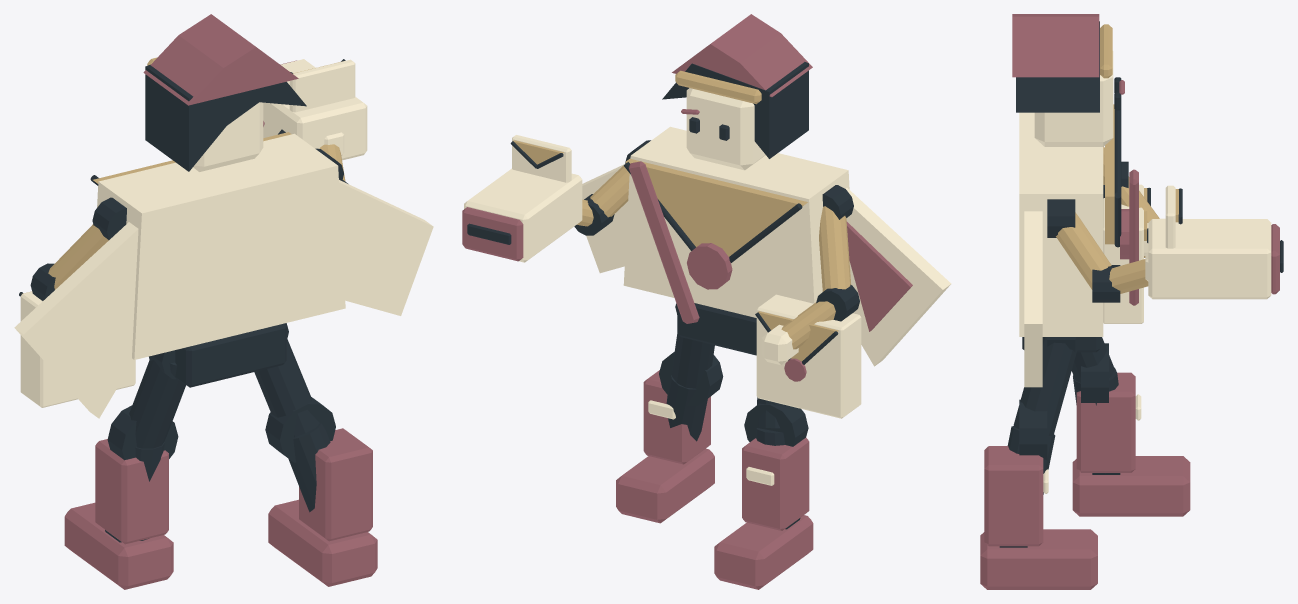
3 renders of one model, left to right at view 1: azimuth 30°, elevation 25°; view 2: azimuth 150°, elevation 25°; view 3: azimuth 270°, elevation 25°, orthographic. The views are drawn at different scales.
Visible parts, largest first — view 1: envelope_coat, left_folded_wing, right_folded_wing, postcap_peak, folded_hair, L_postal_boot, R_postal_boot, R_shoe, L_shoe, waist, dispatch_launcher, L_thigh (+11 smaller); view 2: envelope_coat, hip_dispatch_sheet, sealed_chest_flap, left_folded_wing, dispatch_launcher, L_postal_boot, postcap_peak, R_shoe, L_shoe, courier_face, folded_hair, left_wing_inner (+20 smaller); view 3: envelope_coat, dispatch_launcher, L_shoe, R_shoe, R_postal_boot, postcap_peak, L_postal_boot, right_folded_wing, courier_face, folded_hair, R_thigh, hip_dispatch_sheet (+17 smaller).
Boxes of the visible parts, x1,y1,x2,y2 form: envelope_coat: [97, 133, 345, 359]; left_folded_wing: [14, 222, 138, 418]; right_folded_wing: [339, 180, 433, 315]; postcap_peak: [143, 14, 298, 105]; folded_hair: [145, 64, 306, 171]; L_postal_boot: [95, 439, 168, 544]; R_postal_boot: [299, 428, 372, 541]; R_shoe: [268, 499, 377, 586]; L_shoe: [64, 502, 173, 589]; waist: [175, 323, 286, 387]; dispatch_launcher: [263, 59, 367, 160]; L_thigh: [129, 360, 185, 448]; envelope_coat: [623, 126, 849, 317]; hip_dispatch_sheet: [756, 294, 861, 418]; sealed_chest_flap: [625, 158, 807, 256]; left_folded_wing: [845, 188, 951, 366]; dispatch_launcher: [464, 168, 582, 262]; L_postal_boot: [742, 437, 809, 530]; postcap_peak: [672, 14, 812, 97]; R_shoe: [616, 448, 714, 523]; L_shoe: [714, 515, 813, 589]; courier_face: [686, 88, 765, 170]; folded_hair: [662, 62, 808, 158]; left_wing_inner: [846, 221, 912, 331]; envelope_coat: [1019, 112, 1103, 336]; dispatch_launcher: [1148, 219, 1271, 299]; L_shoe: [1072, 456, 1190, 516]; R_shoe: [980, 529, 1097, 589]; R_postal_boot: [984, 446, 1043, 546]; postcap_peak: [1012, 14, 1099, 77]; L_postal_boot: [1076, 372, 1135, 472]; right_folded_wing: [1024, 211, 1042, 387]; courier_face: [1034, 51, 1113, 146]; folded_hair: [1016, 21, 1099, 112]; R_thigh: [1013, 337, 1079, 435]; hip_dispatch_sheet: [1103, 184, 1143, 323].
Bounding box in the file's own units: 1.63 × 2.07 × 1.08.
